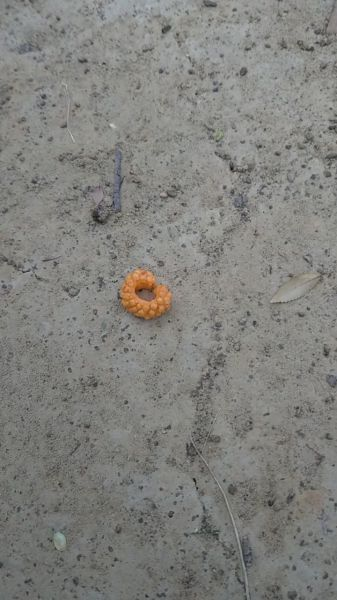eggs: (117, 267, 176, 316)
